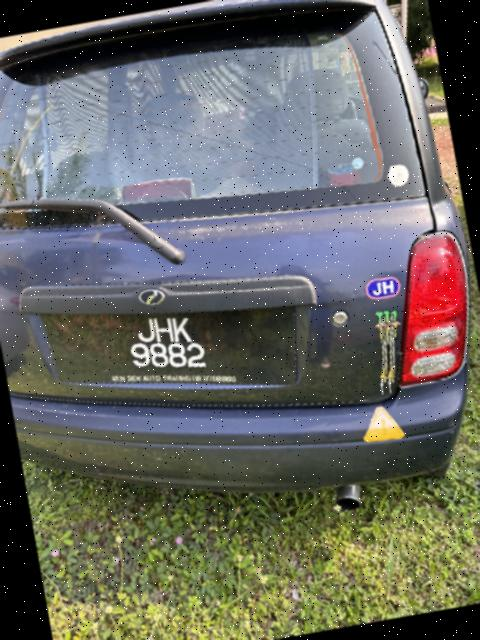License_Plate: (48, 279, 297, 427)
car: (1, 1, 480, 565)
